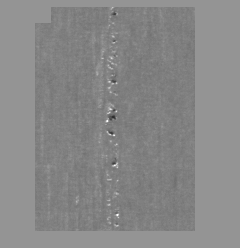oxl: (35, 10, 205, 238)
